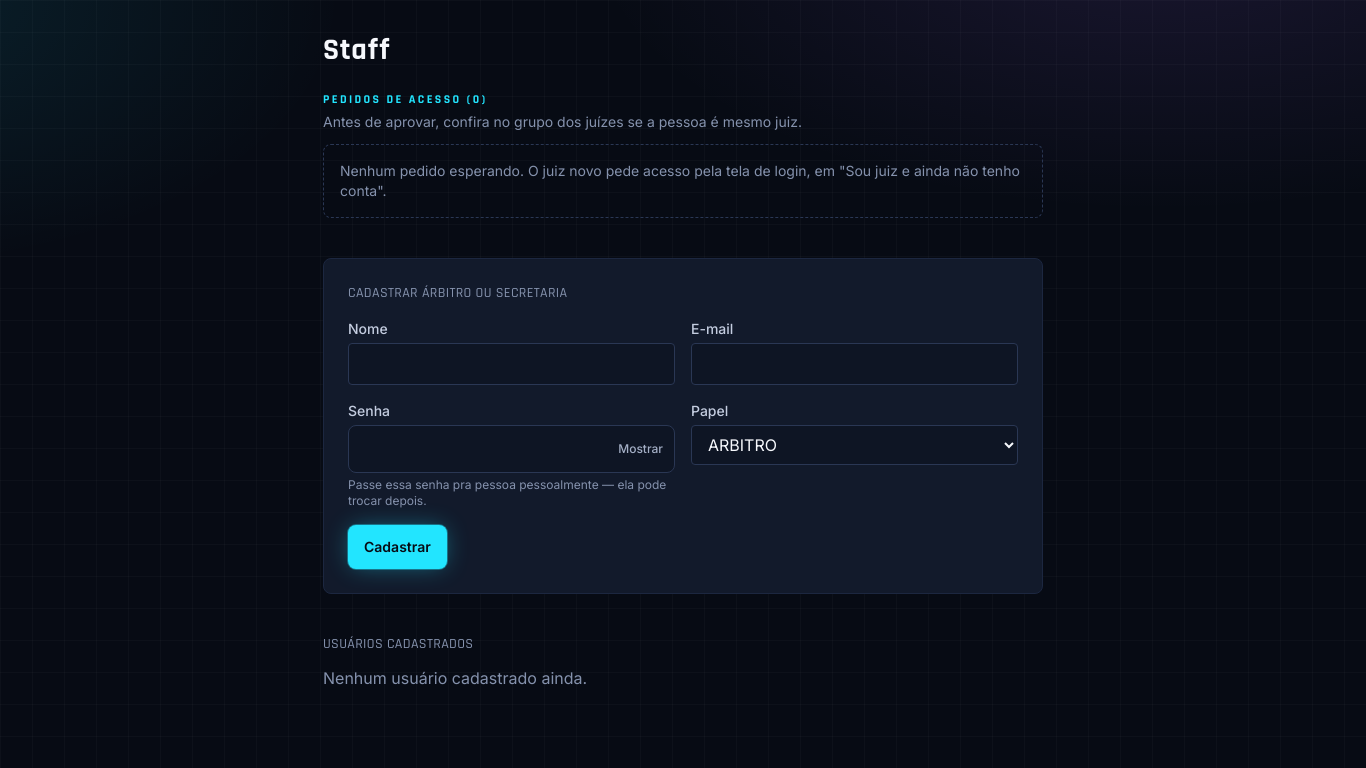
Test: UsuarioListPage › mostra erro quando o cadastro falha (ex.: email duplicado)
Type "Duplicado" into the field labelled "Nome" at coordinates (512, 364), box [348, 343, 675, 385]
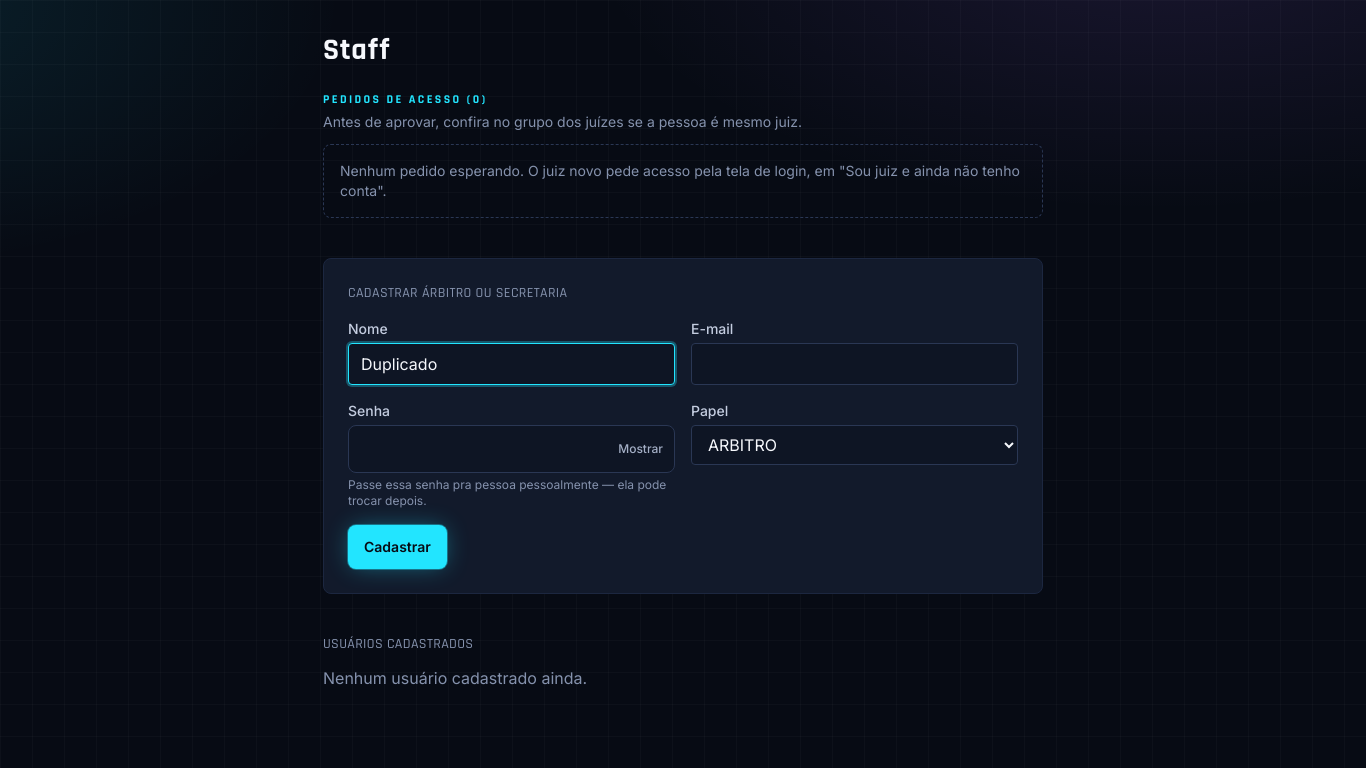
Type "duplicado@tjr.app" into the field labelled "E-mail" at coordinates (854, 364), box [691, 343, 1018, 385]
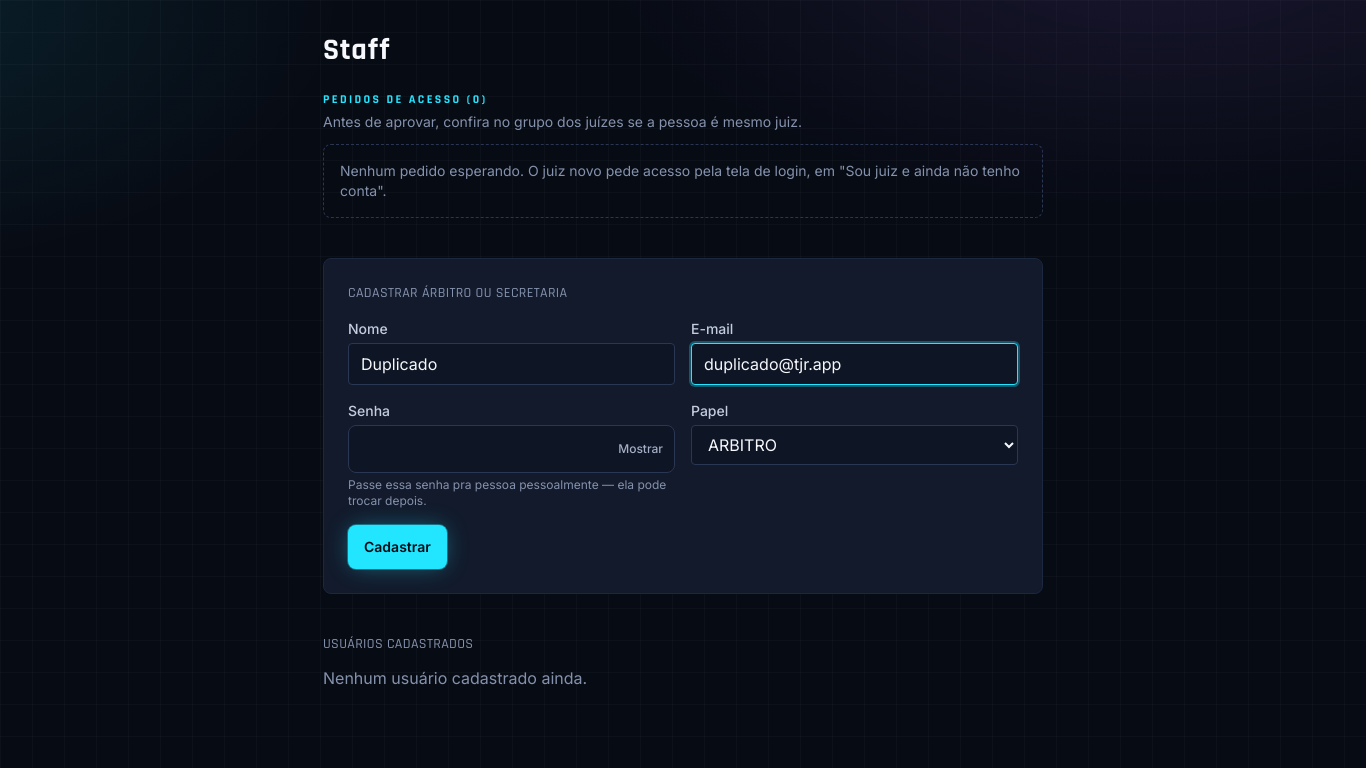
Type "senha-forte" into the password field labelled "Senha" at coordinates (512, 449), box [348, 425, 675, 473]
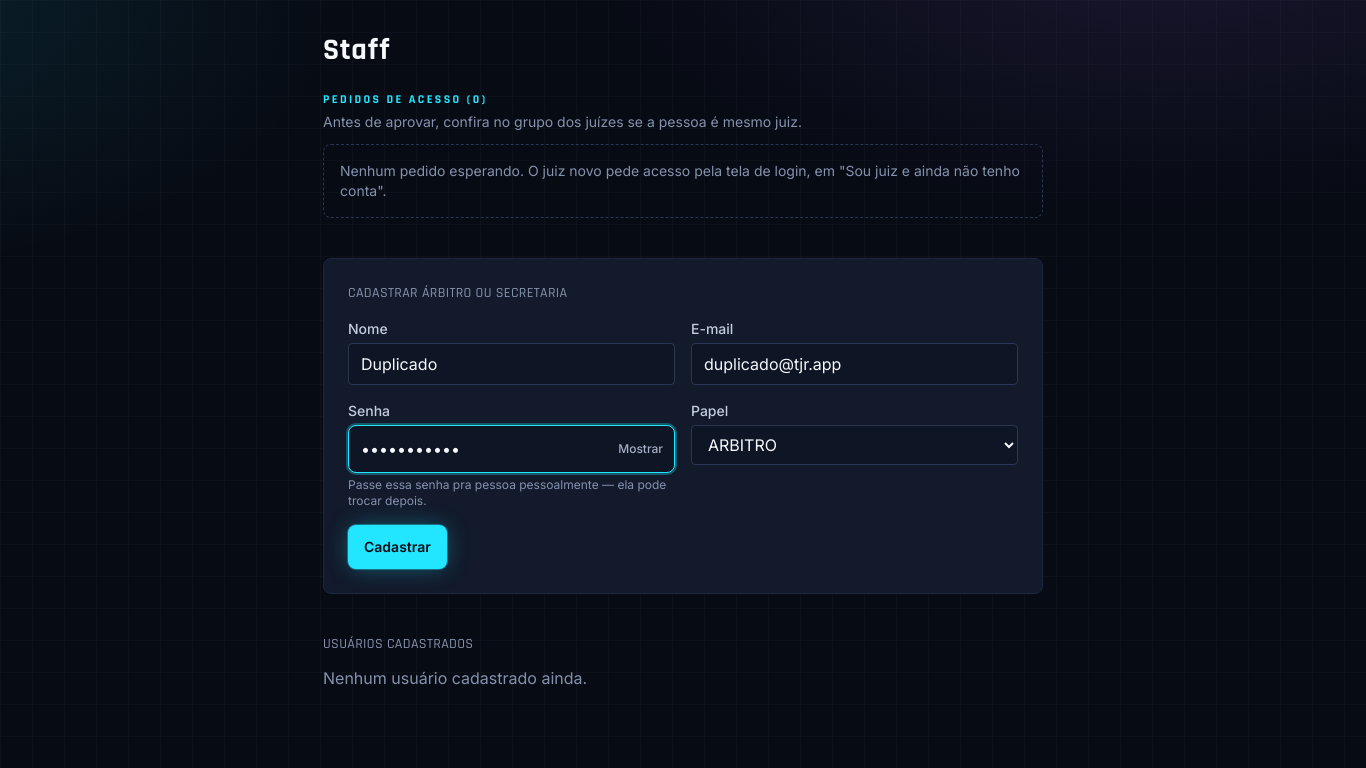
Click the button "Cadastrar" at coordinates (397, 547), box [348, 525, 447, 569]
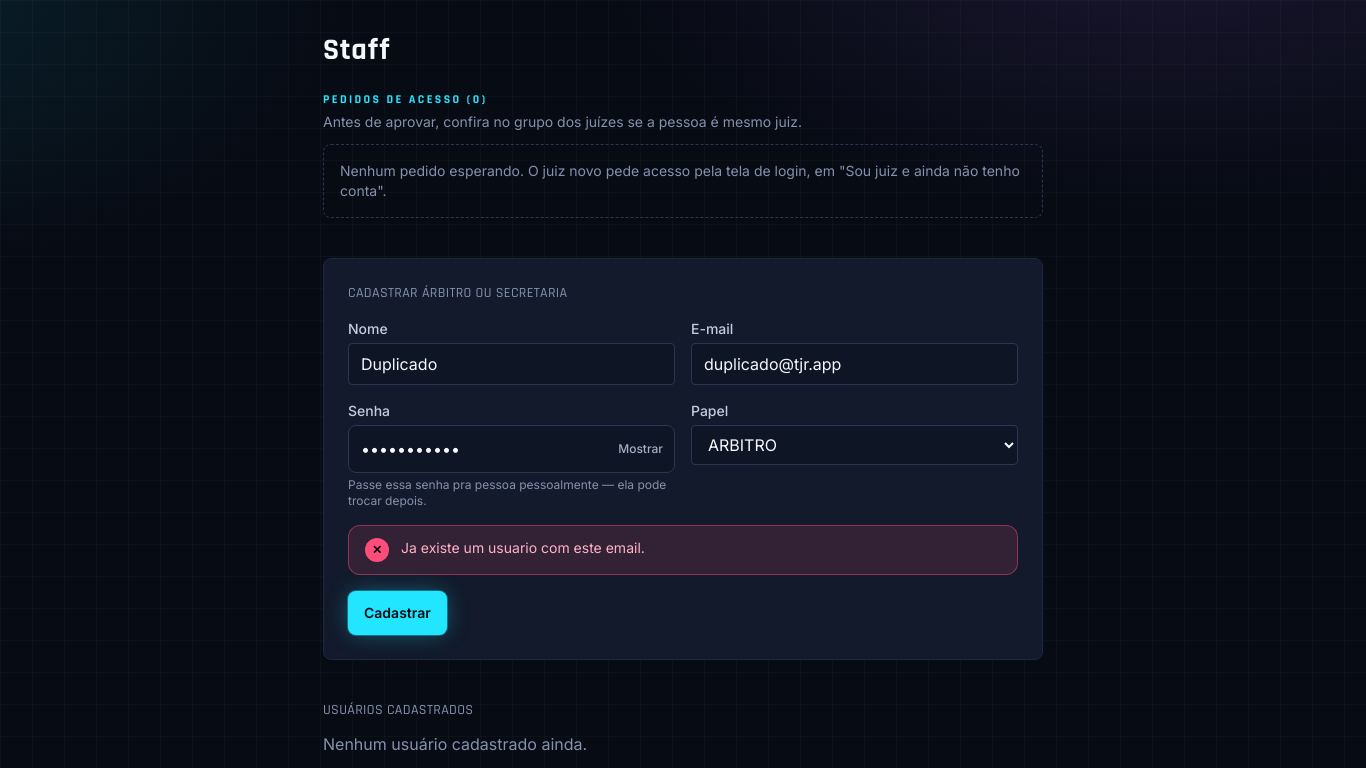
Now the text "Ja existe um usuario com este email." is shown, box [401, 539, 645, 556]
